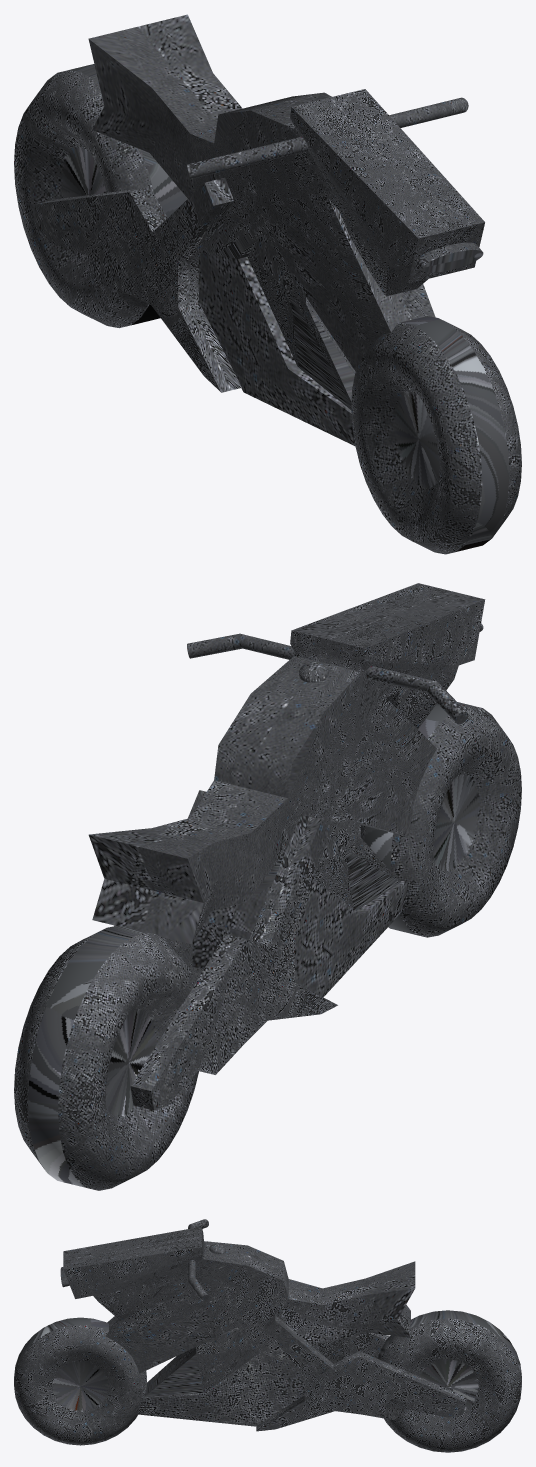
The model's file is BikePATH 1.fbx.
3 views of the same model, one above another, from view 1: azimuth 30°, elevation 25°; view 2: azimuth 150°, elevation 25°; view 3: azimuth 270°, elevation 25° (orthographic). The views are drawn at different scales.
Parts seen in each view (by area): view 1: Bike.001; view 2: Bike.001; view 3: Bike.001.
Boxes of the visible parts, <box> form: Bike.001: <box>14,14,521,554</box>; Bike.001: <box>14,583,521,1190</box>; Bike.001: <box>14,1219,521,1452</box>.
Bounding box in the file's own units: 44.2 × 57.03 × 124.
1 material, 1 textured.
